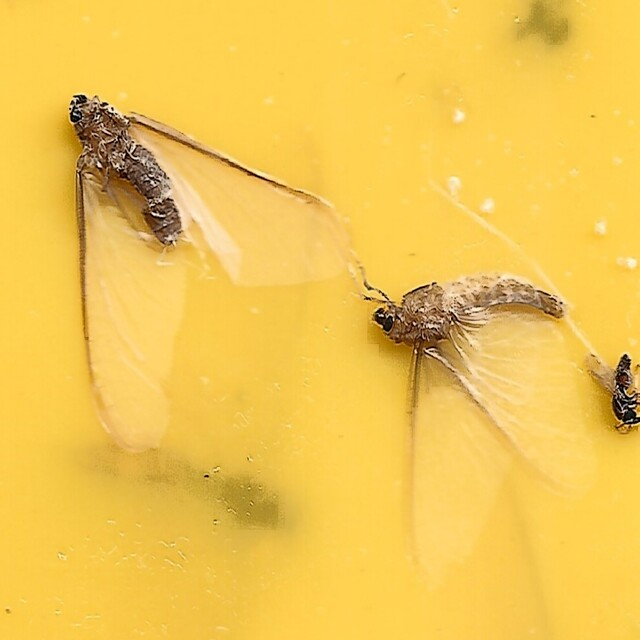Ephemeroptera: (64, 80, 352, 457), (367, 277, 576, 560)
